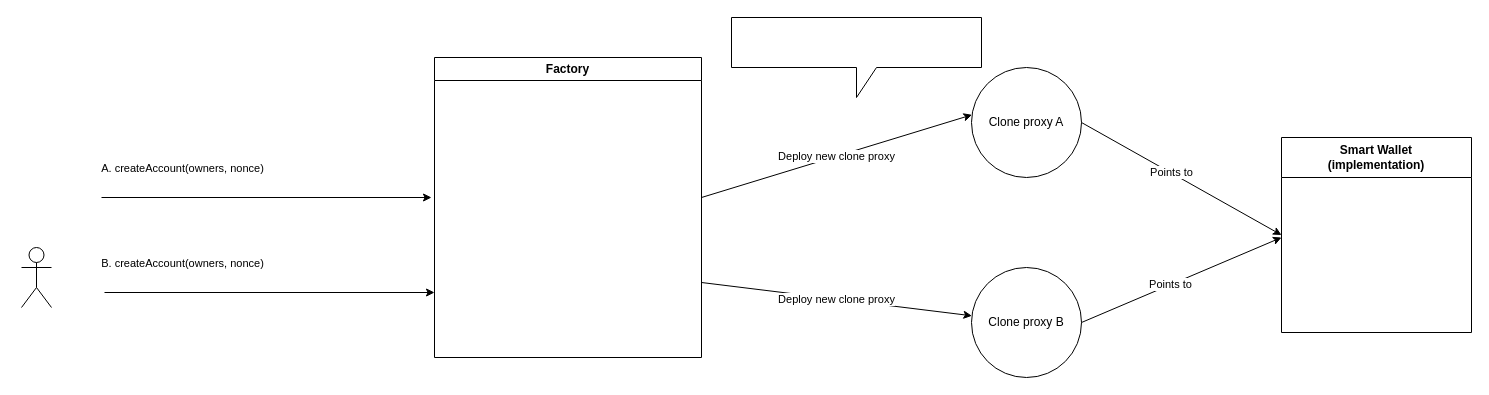
Some shapes in this 1489 by 395 pixel diagram are drawn without their labels. Here are the shapes that lost their labels. From the top down, the centre of each, then its label:
At [856,57]: "Salt = keccak256(abi.encode(owners, nonce)".
At [36,277]: "Sender".
